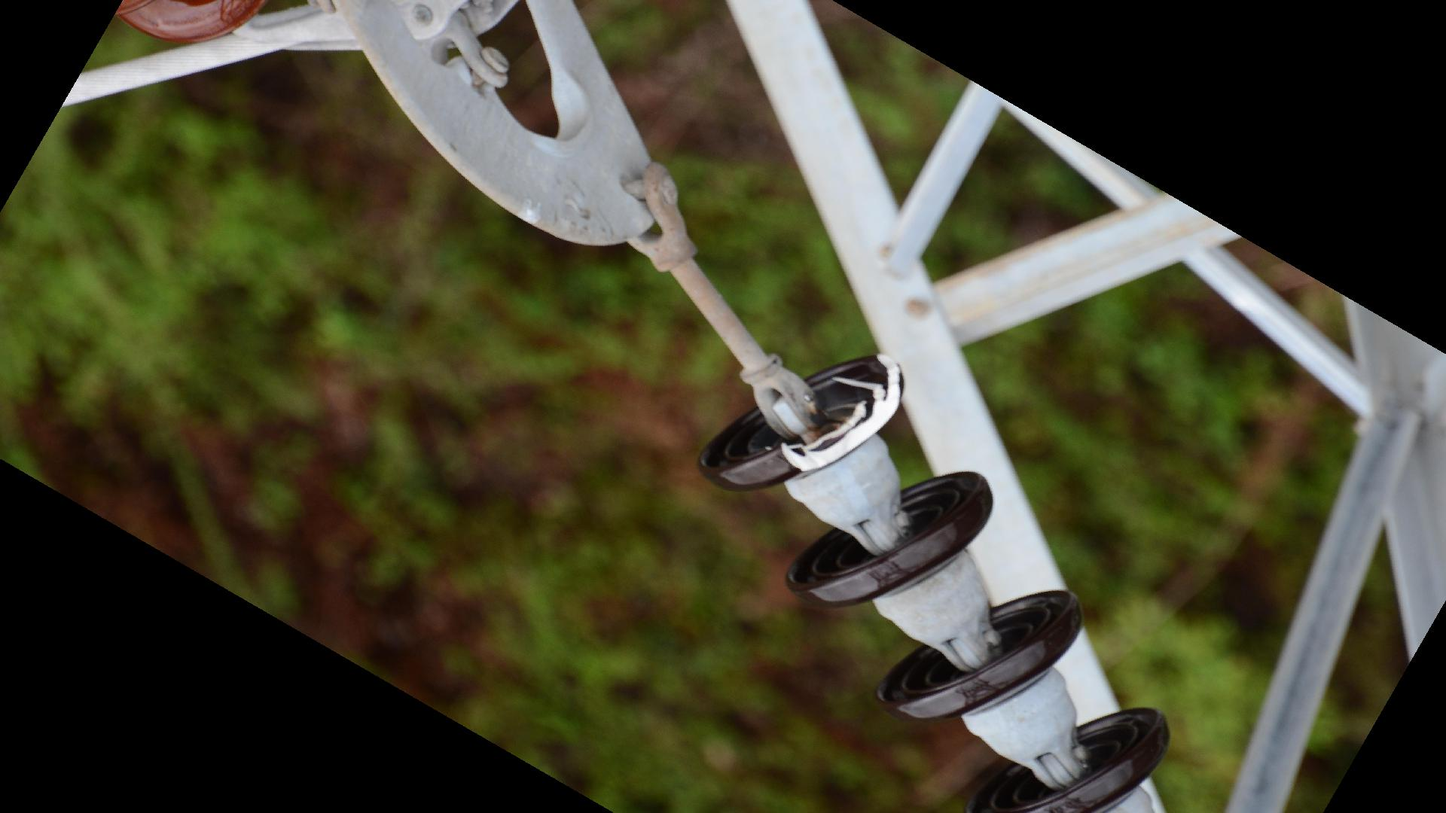insulator: (691, 344, 1181, 813)
insulator_breakage: (773, 347, 911, 480)
